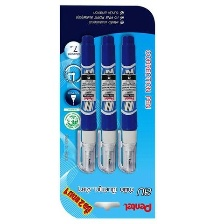book: (56, 3, 158, 221)
correction_fluid: (95, 32, 119, 175), (115, 33, 139, 175), (76, 32, 98, 175)
